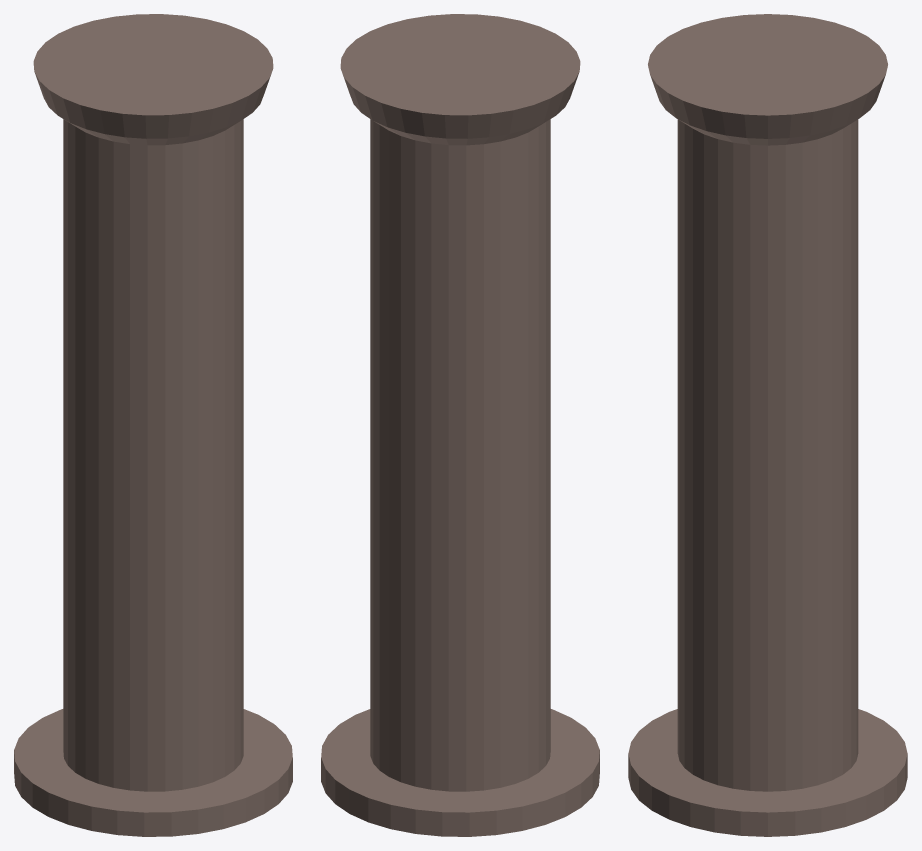
Rendered from Roman_Pillar.fbx.
The picture shows the model from 3 angles, left to right: view 1: azimuth 30°, elevation 25°; view 2: azimuth 150°, elevation 25°; view 3: azimuth 270°, elevation 25°; orthographic projection.
Parts seen in each view (by area): view 1: Cylinder; view 2: Cylinder; view 3: Cylinder.
Boxes of the visible parts, left/top/right/bottom form: Cylinder: left=14, top=14, right=292, bottom=836; Cylinder: left=321, top=14, right=599, bottom=836; Cylinder: left=628, top=14, right=907, bottom=836.
Bounding box in the file's own units: 1000 × 2818 × 1000.
